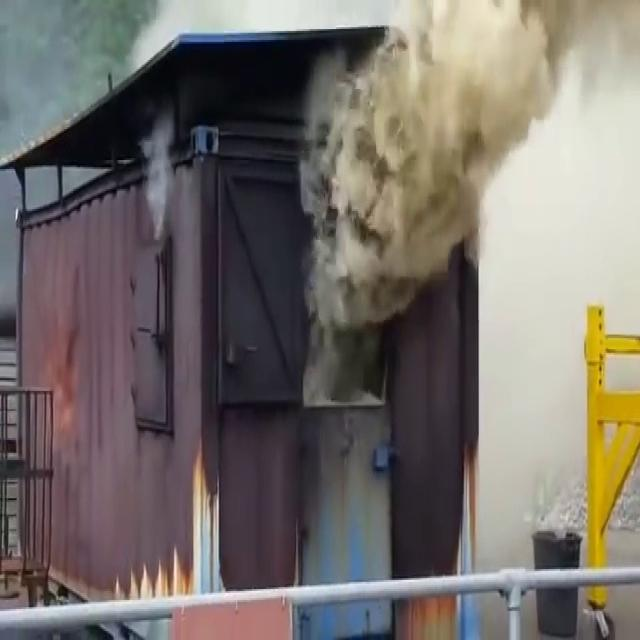Smoke: (290, 0, 640, 290)
